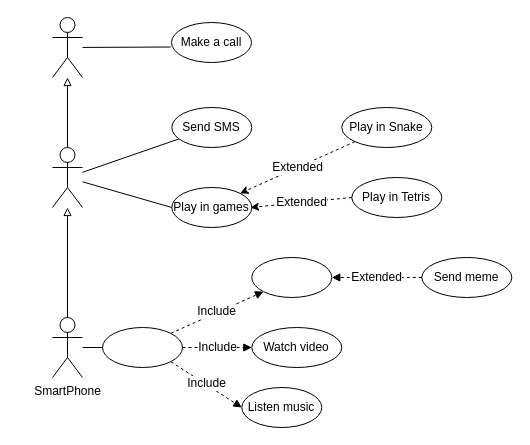
The diagram is 530 pixels wide and 445 high, and some of its shapes have lost their labels. The shapes that lost their labels are listed below. From the top down, each one's box as (x1, y1, x2, y2) in pixels, then its label:
(52, 16, 82, 78): Rotary phone
(52, 146, 82, 208): Push-button phone
(251, 256, 332, 298): Chat in messangers
(102, 326, 182, 368): Surf the Internet
